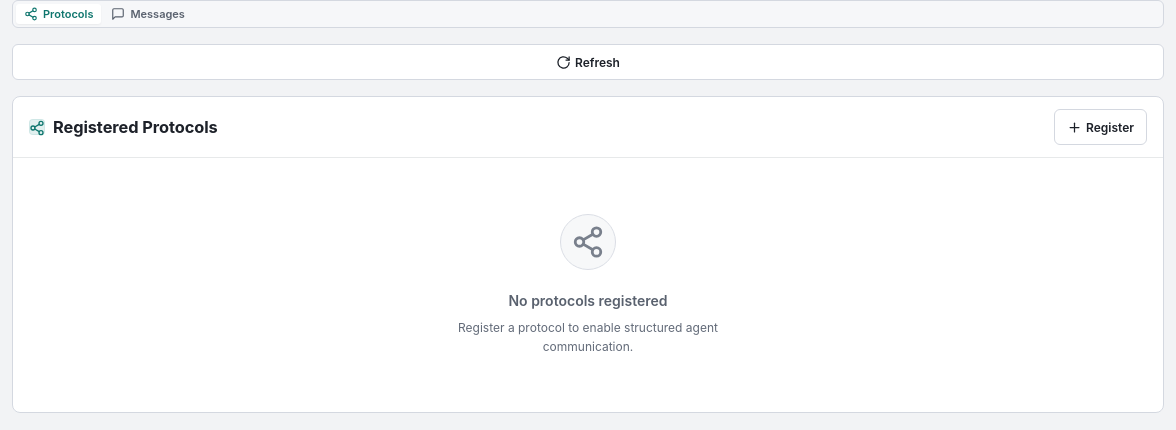
Protocols.vue › renders messages when /api/protocol/messages returns data
This screenshot has width=1176, height=430.
Note: Switch to messages tab
Click the radio button with class "segmented__item" showing "Messages" at (148, 14), box [103,4,193,24]
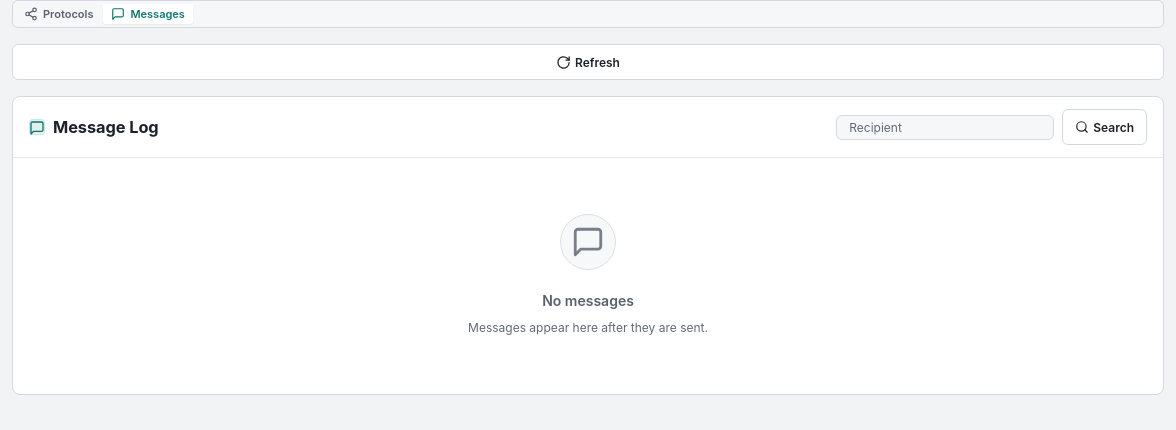
Expected: the field with class "msg-search__input" is shown
Type "agent-a" into the field with class "msg-search__input" at (945, 127), box [836,114,1054,140]
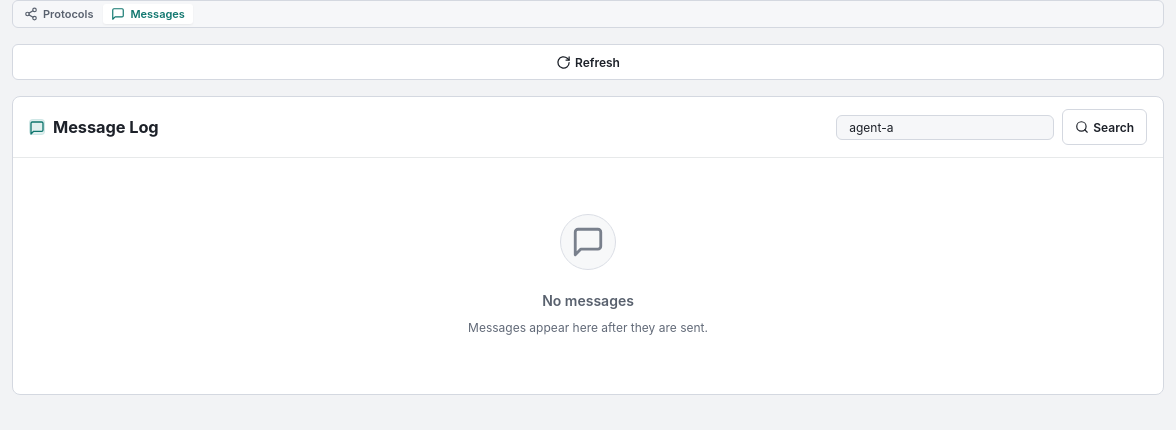
Click the button with class "btn-ghost" showing "Search" at (1105, 127), box [1062,109,1147,145]
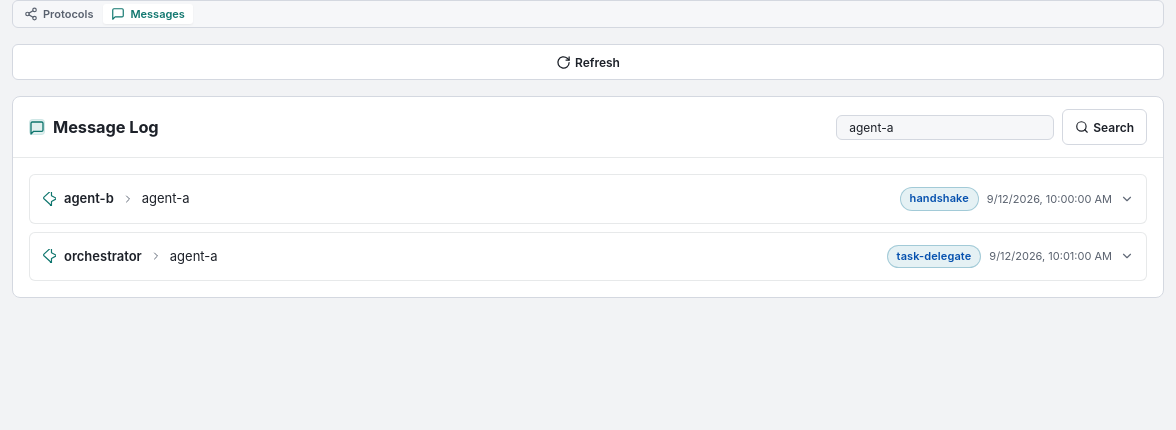
Expected: the number of elements with class "msg-item" is 2, [29,174,1147,224]; [29,232,1147,281]
Expected: the text "agent-b" is shown, [64,189,114,208]
Expected: the text "orchestrator" is shown, [64,247,142,266]
